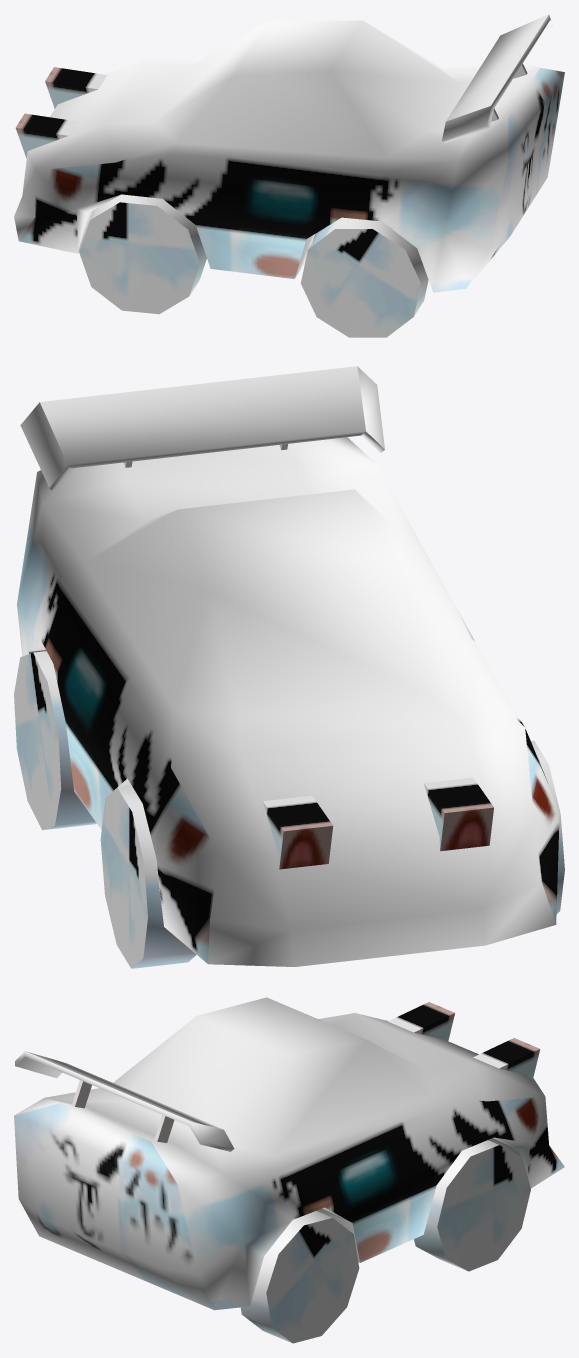
File: static.ico.obj
The picture shows the model from 3 angles, top to bottom: view 1: azimuth 30°, elevation 25°; view 2: azimuth 150°, elevation 25°; view 3: azimuth 270°, elevation 25°; orthographic projection. The views are drawn at different scales.
Size of the model in its own units: 4.72 by 2.33 by 4.73.
